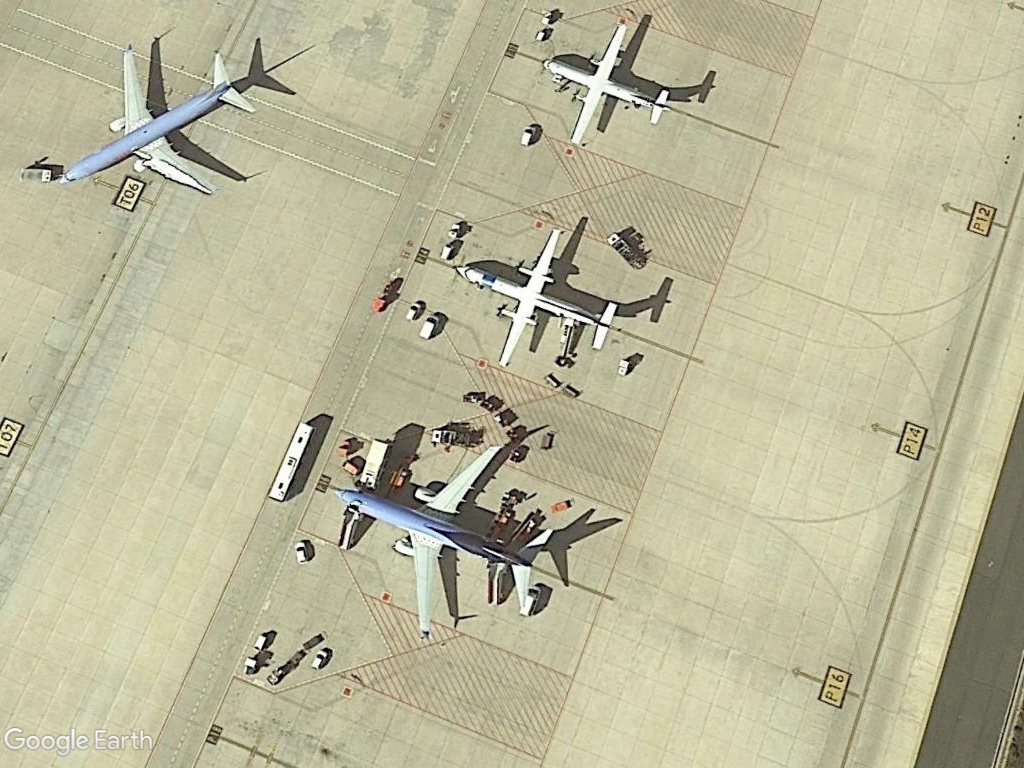airliner: (328, 424, 553, 650), (54, 41, 266, 205)
bus: (267, 419, 317, 502)
other: (353, 434, 392, 493)
propeller: (447, 217, 626, 378), (534, 6, 683, 154)
pushbacktruck: (13, 166, 58, 186)
